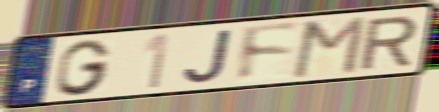1: (143, 31, 171, 92)
F: (237, 21, 303, 85)
G: (54, 37, 114, 98)
J: (181, 27, 235, 85)
M: (288, 13, 369, 80)
R: (357, 14, 421, 73)
